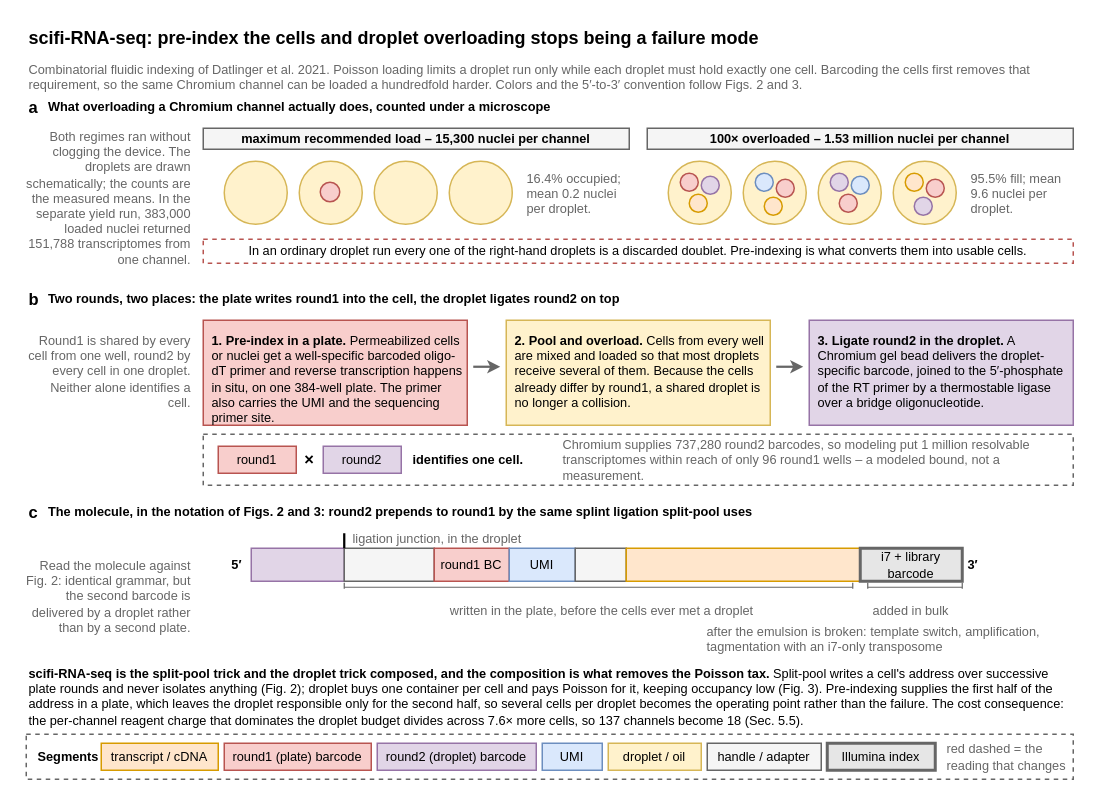
This 1100x806 diagram has some shape labels left out. The shapes that lost their labels are listed below. From the top down, each one's centre as x and y in pixels, then its label:
At [297,564]: "round2 BC (ligated)".
At [388,564]: "primer site".
At [600,564]: "dT".
At [742,564]: "cDNA".
